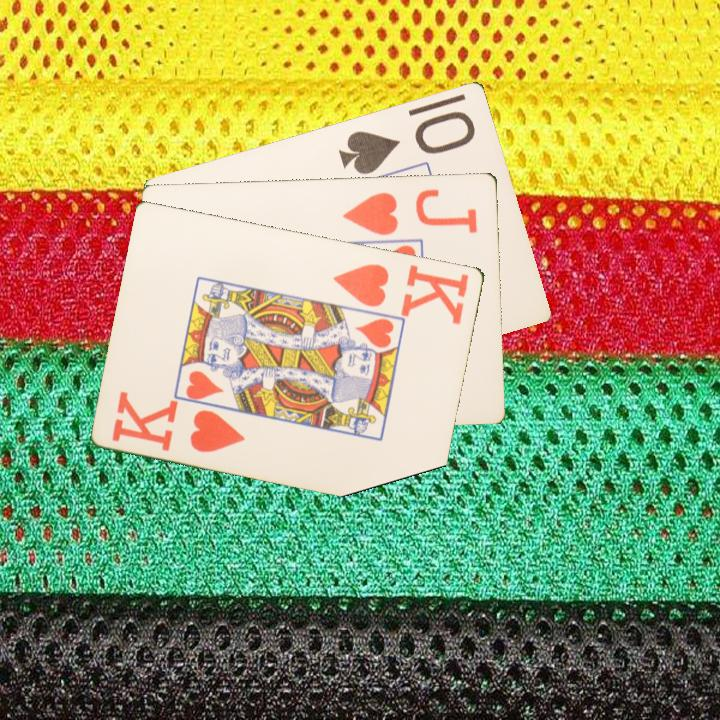10s: (335, 107, 479, 177)
Jh: (339, 185, 481, 238)
Kh: (330, 260, 473, 327), (109, 388, 249, 455)
